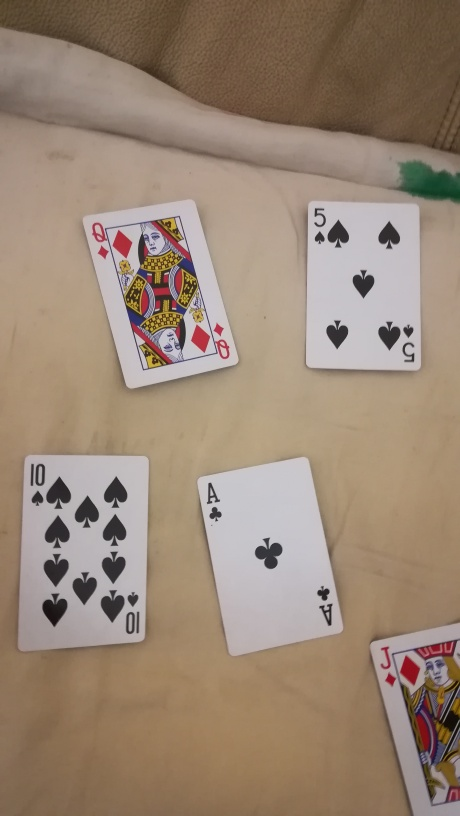fk j: (368, 629, 456, 816)
fk q: (73, 200, 251, 393)
ht 10: (18, 452, 167, 656)
ht 5: (302, 199, 442, 373)
mh 10: (195, 454, 347, 663)
